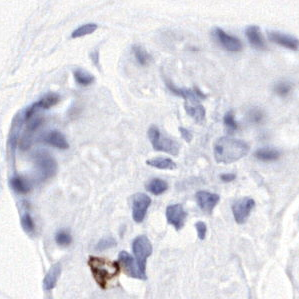Lymphocyte: (86, 252, 122, 289)
